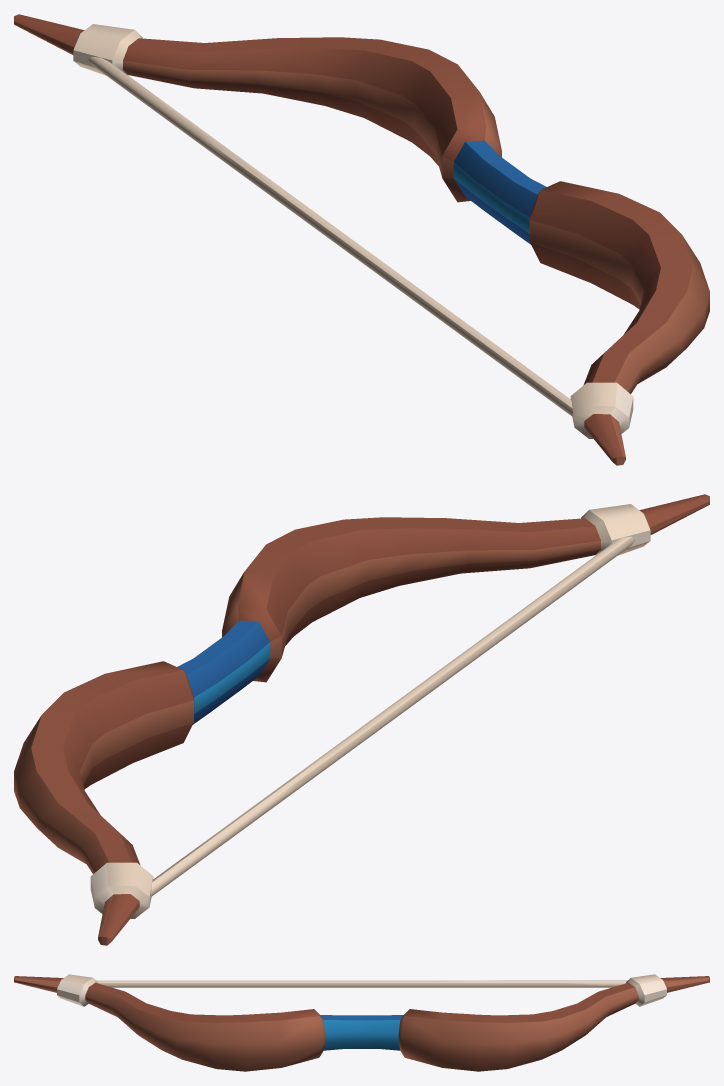
The model's file is bow_withString.gltf.
The picture shows the model from 3 angles, top to bottom: view 1: azimuth 30°, elevation 25°; view 2: azimuth 150°, elevation 25°; view 3: azimuth 270°, elevation 25°; orthographic projection. The views are drawn at different scales.
Visible parts, largest first — view 1: bow_withString; view 2: bow_withString; view 3: bow_withString.
Part boxes in pixels (left/top/right/bottom): bow_withString: left=14, top=14, right=709, bottom=465; bow_withString: left=14, top=494, right=709, bottom=945; bow_withString: left=14, top=974, right=709, bottom=1071.
Size of the model in its own units: 0.4944 by 0.1556 by 1.98.
1 material, 1 textured.
